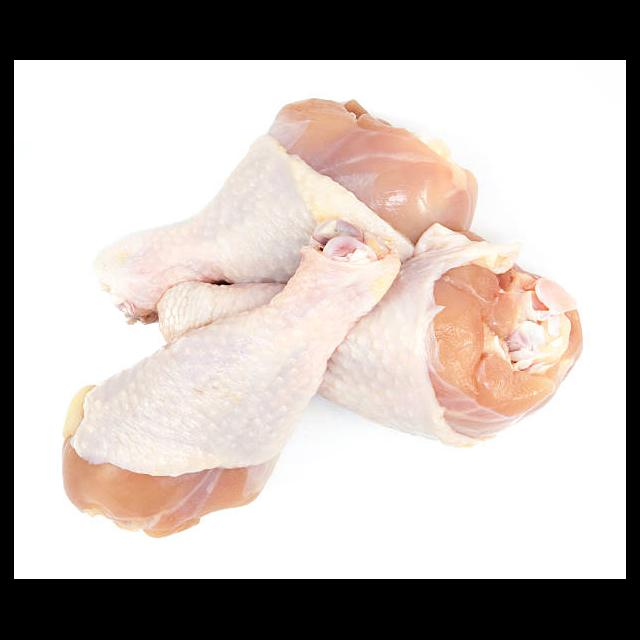chicken: (62, 217, 401, 538), (158, 223, 586, 450), (90, 98, 477, 324)
